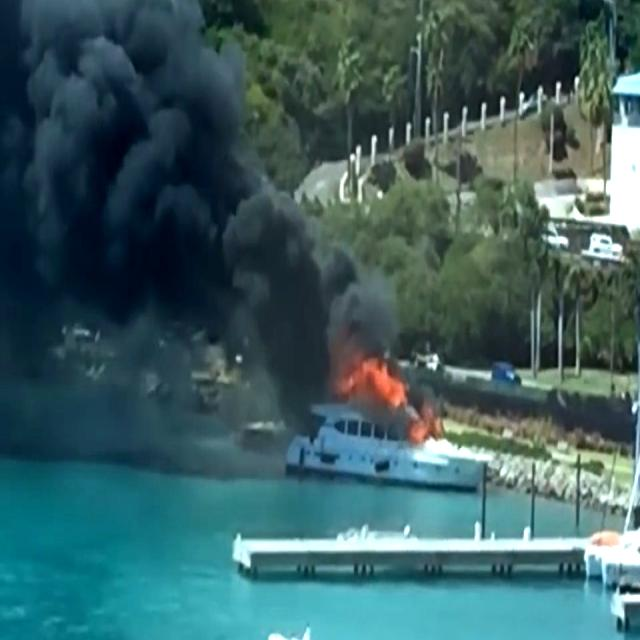smoke: (33, 0, 229, 308), (242, 175, 370, 382)
